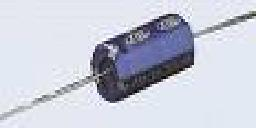Electrolytic Capacitor: (77, 11, 217, 108)
